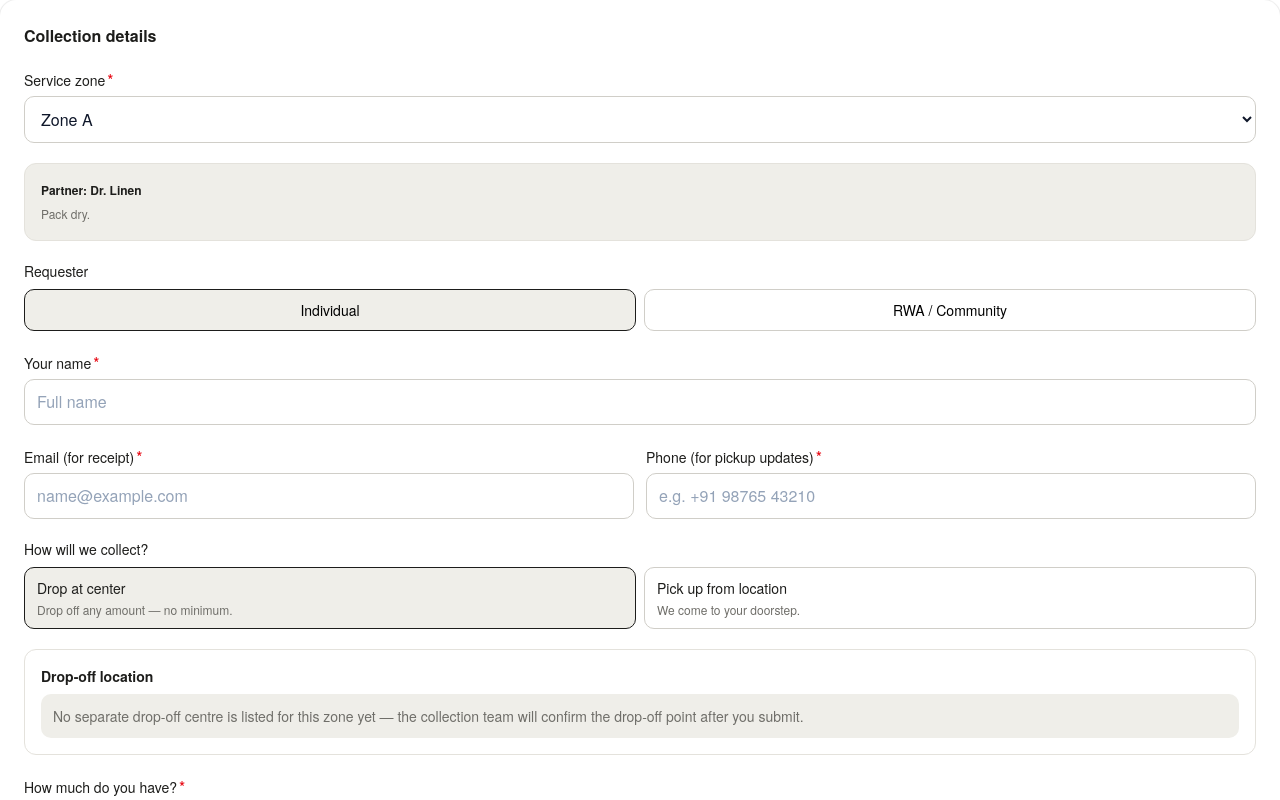
TextileCollectionFields › shows the RWA name field when requester_type is rwa
Click the radio button "RWA / Community": (950, 310) 644,289 -> 1256,331
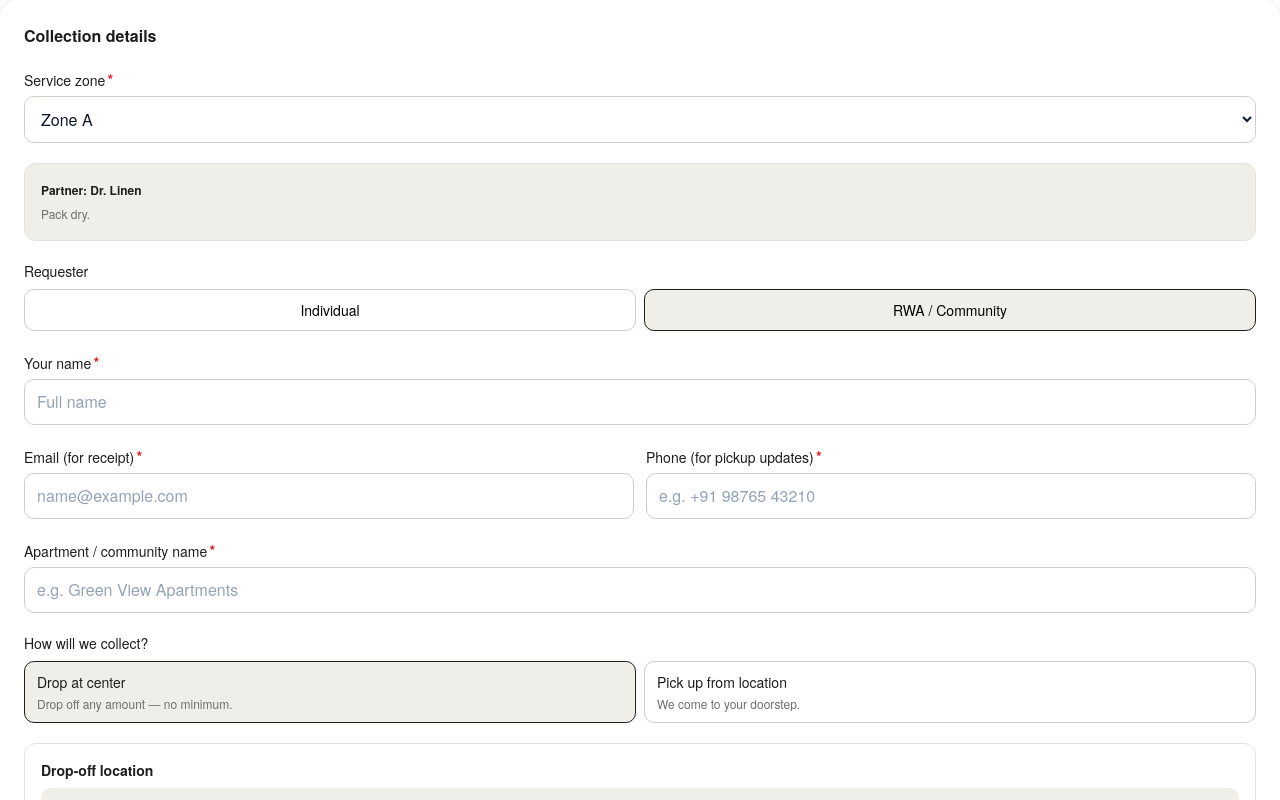
Now the field labelled "Apartment / community name" is shown, box 24,567 -> 1256,613
